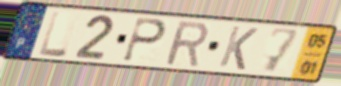2: (72, 13, 118, 61)
7: (263, 26, 301, 75)
K: (216, 24, 260, 72)
L: (37, 9, 70, 59)
P: (120, 16, 169, 64)
R: (163, 20, 209, 69)
